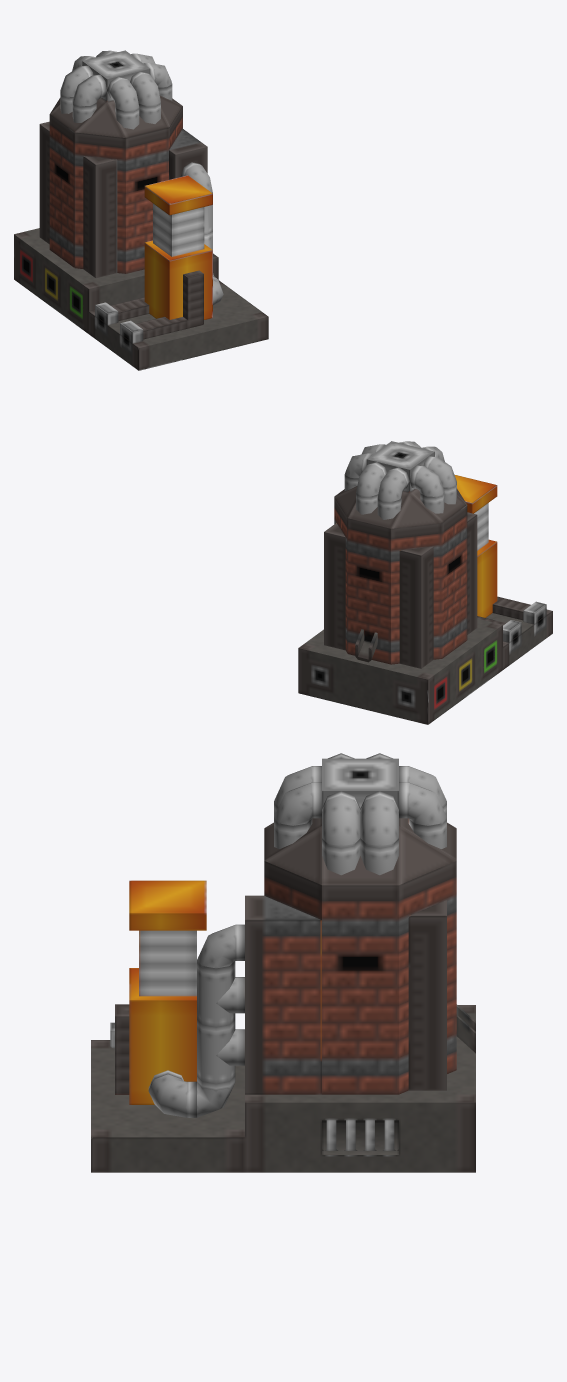
The model's file is rotary_furnace.obj.
3 views of the same model, one above another, from view 1: azimuth 30°, elevation 25°; view 2: azimuth 150°, elevation 25°; view 3: azimuth 270°, elevation 25° (orthographic). The views are drawn at different scales.
Parts seen in each view (by area): view 1: Furnace, Piston; view 2: Furnace, Piston; view 3: Furnace, Piston.
Part boxes in pixels (x1,y1,x2,y2): Furnace: (14,50,268,370); Piston: (144,175,212,256); Furnace: (298,441,552,724); Piston: (454,475,497,550); Furnace: (91,753,475,1172); Piston: (129,880,206,996).
Size of the model in its own units: 9 by 5 by 7.
